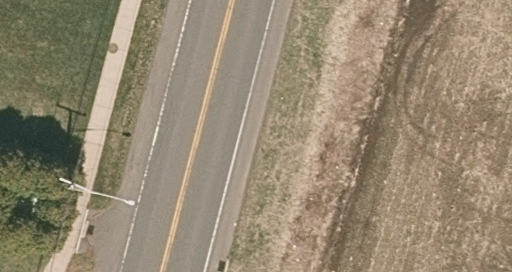DT: (56, 175, 90, 192)
